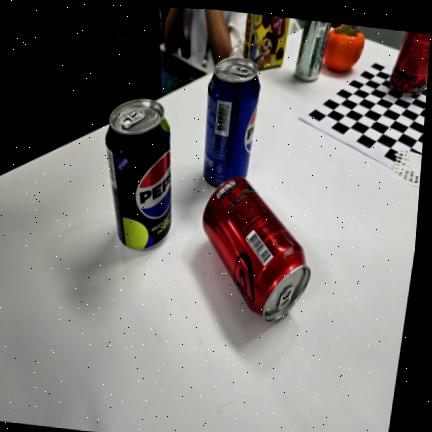can_coke_zero: (202, 176, 310, 321)
can_pepsi: (203, 58, 259, 187)
can_pepsi_zero: (105, 99, 171, 249)
